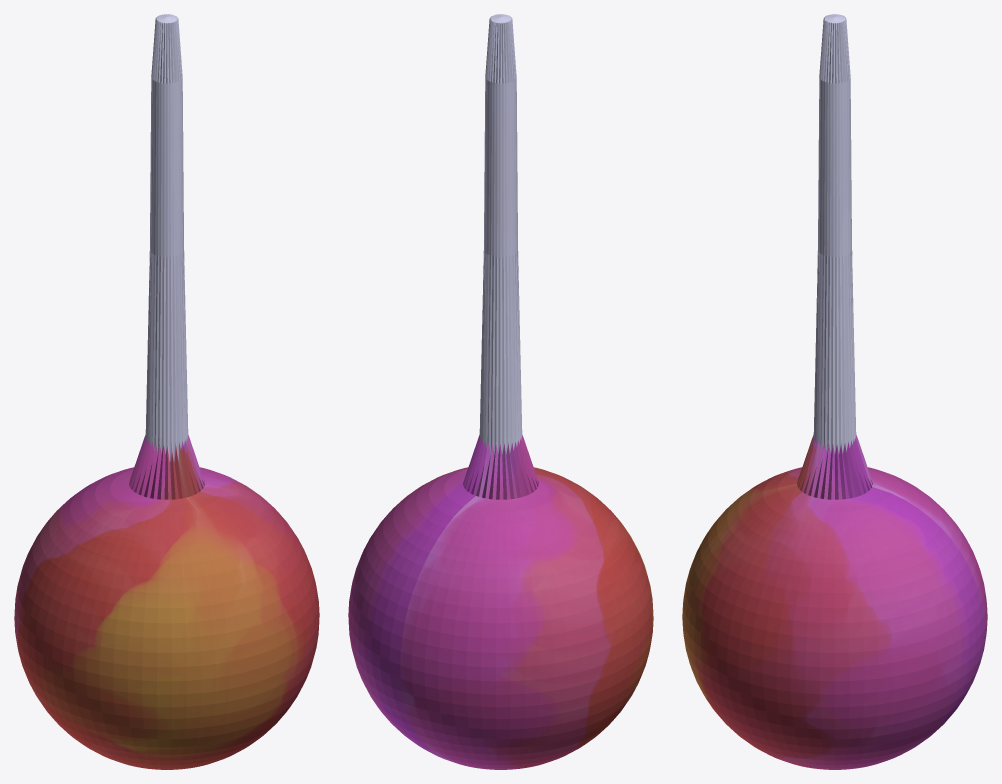
The model's file is lolli.obj.
3 renders of one model, left to right at view 1: azimuth 30°, elevation 25°; view 2: azimuth 150°, elevation 25°; view 3: azimuth 270°, elevation 25°, orthographic.
Parts seen in each view (by area): view 1: Sphere; view 2: Sphere; view 3: Sphere.
Boxes of the visible parts, box(x1,y1,x2,y2) form: Sphere: box(14, 14, 319, 769); Sphere: box(348, 14, 653, 769); Sphere: box(682, 14, 987, 769).
Size of the model in its own units: 1.98 by 5.29 by 1.98.
2 materials, 2 textured.
